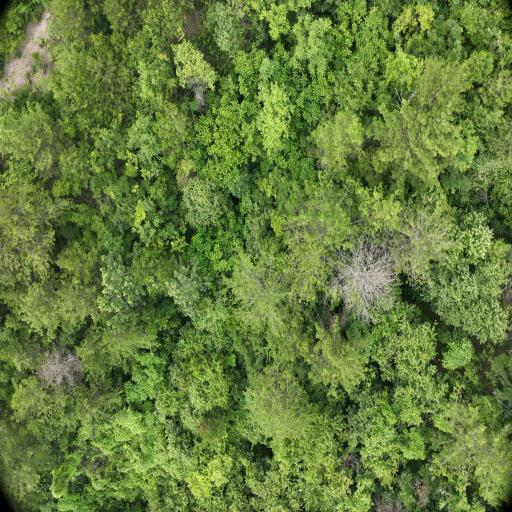dead-tree: (340, 246, 394, 309), (48, 350, 78, 381)
